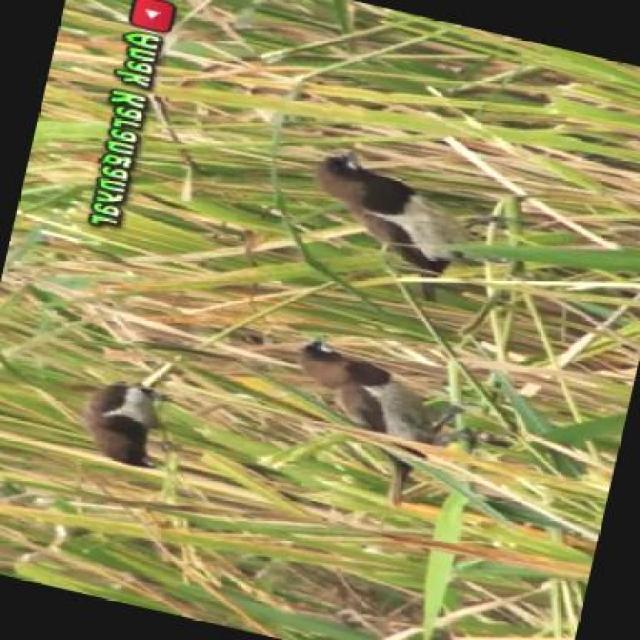Bird: (283, 320, 448, 508), (303, 143, 482, 294), (75, 372, 192, 489)
